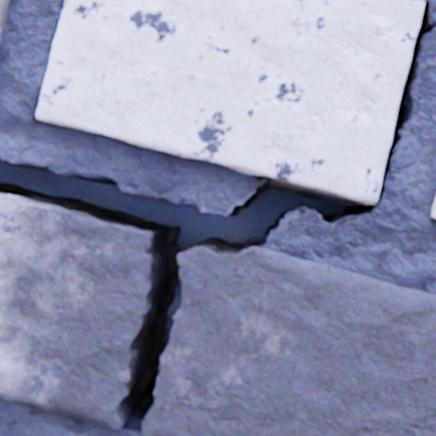brick: (37, 0, 424, 204), (0, 0, 10, 46), (430, 196, 435, 219)
broken_brick: (142, 246, 435, 435), (0, 195, 152, 429)
crack: (0, 1, 435, 434)
